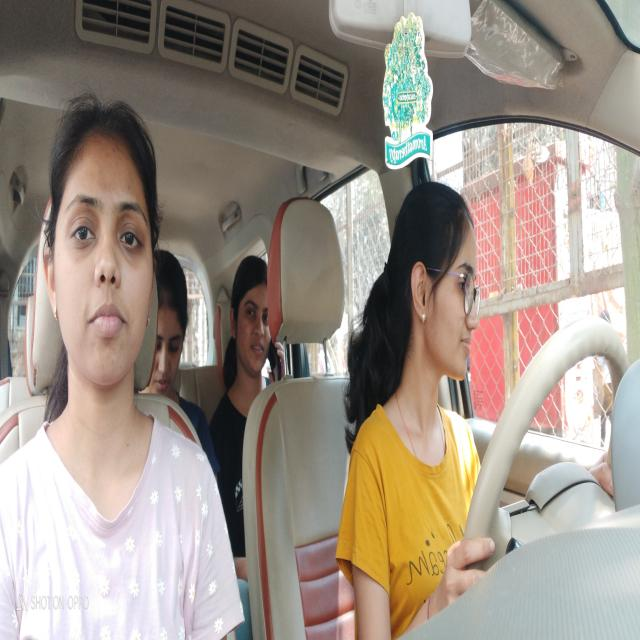person: (55, 124, 156, 388), (403, 186, 481, 389), (232, 253, 274, 370), (156, 252, 189, 394)
